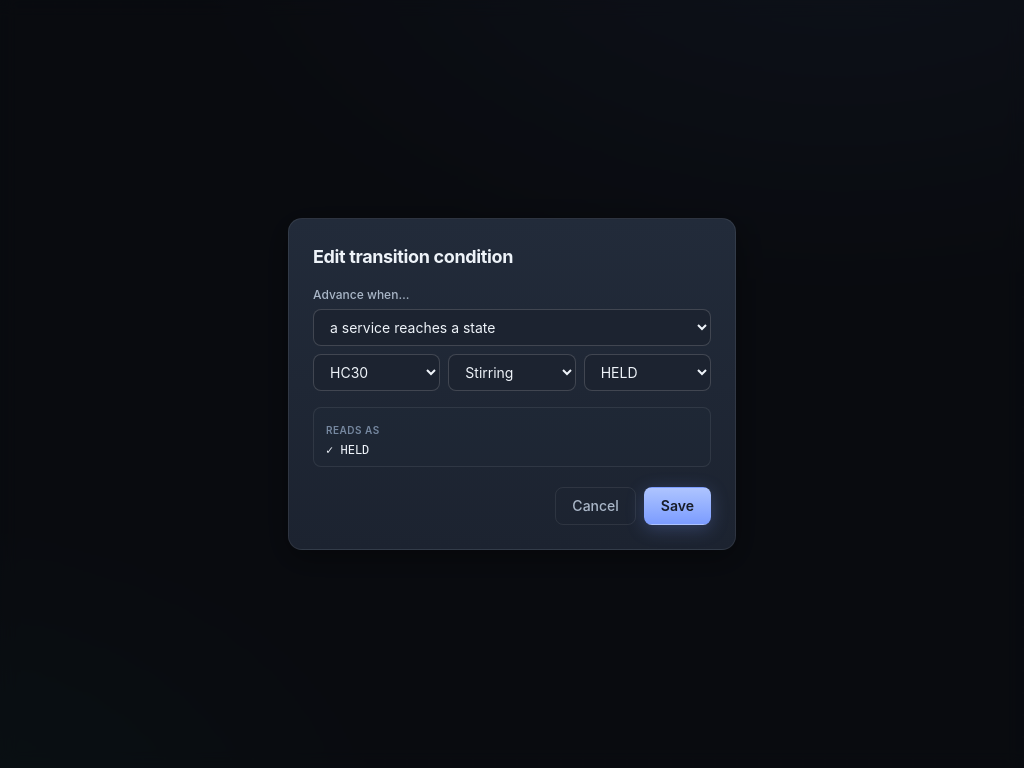
Test: authoring a compound from a leaf › adds and removes children, and refuses to remove the last one
Select "ALL of…" in the dropdown named "Condition kind" at (512, 328), box [313,309,711,346]
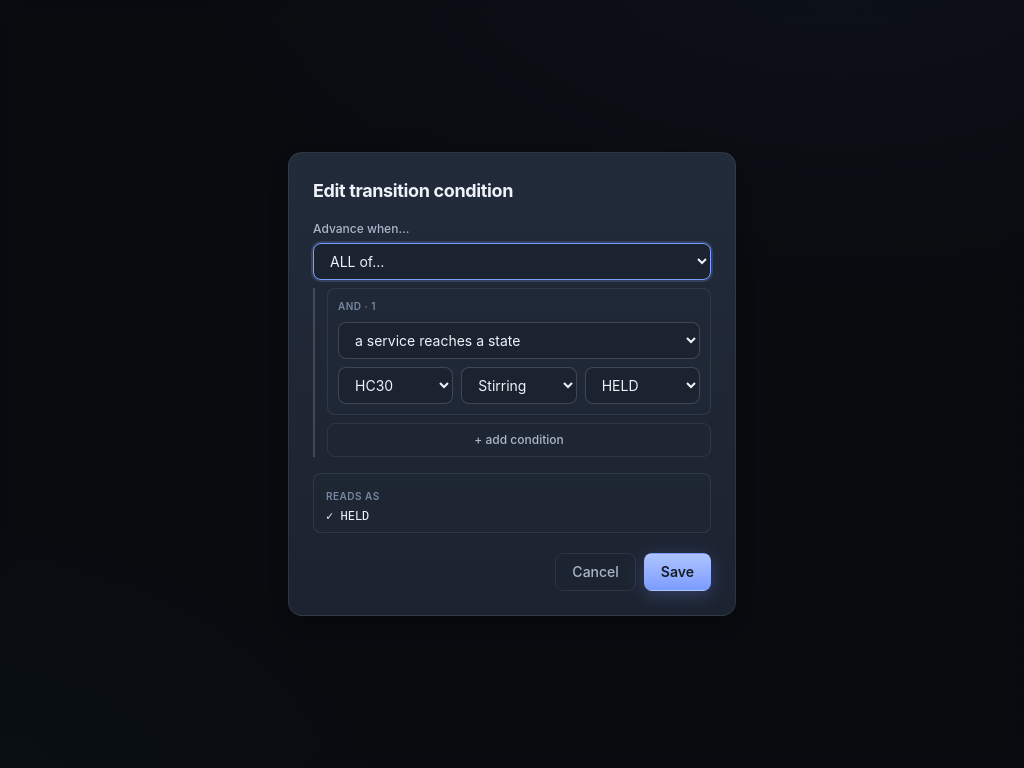
Click the button "+ add condition" at (519, 440), box [327,423,711,457]
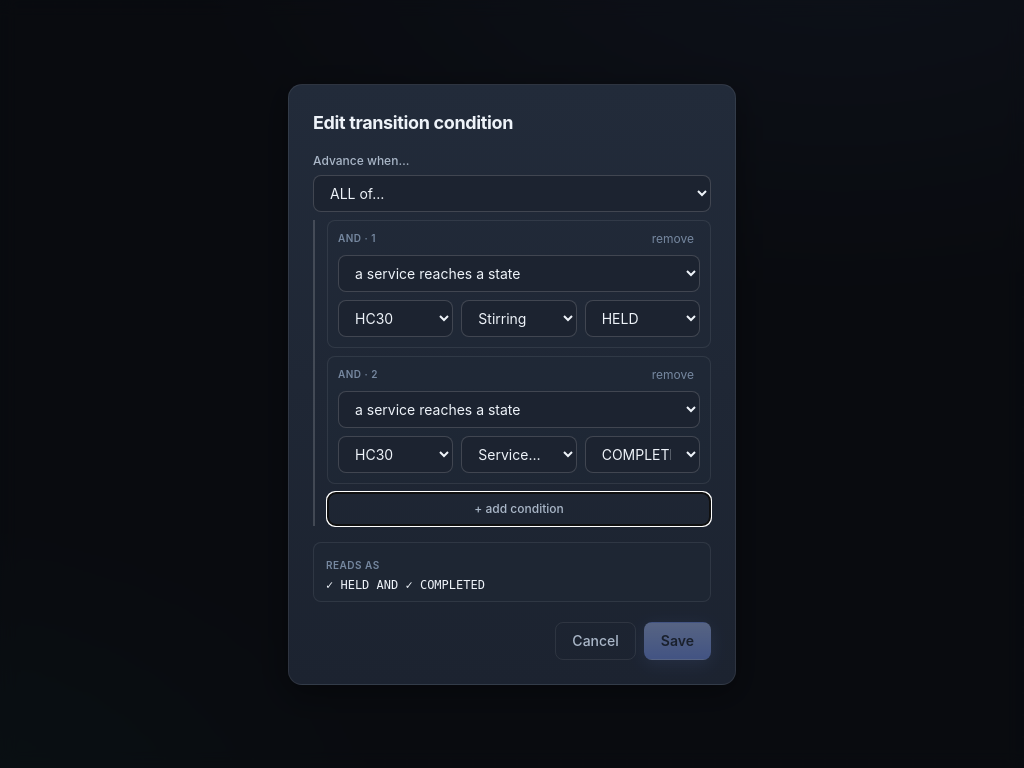
Check: the number of dropdowns named "Condition kind" is 3, box [313,174,711,212]; [338,254,700,292]; [338,390,700,428]
Check: the button with aria-label "Remove condition 1" is shown, box [646,230,700,246]
Click the button with aria-label "Remove condition 2" at (673, 374), box [646,366,700,382]
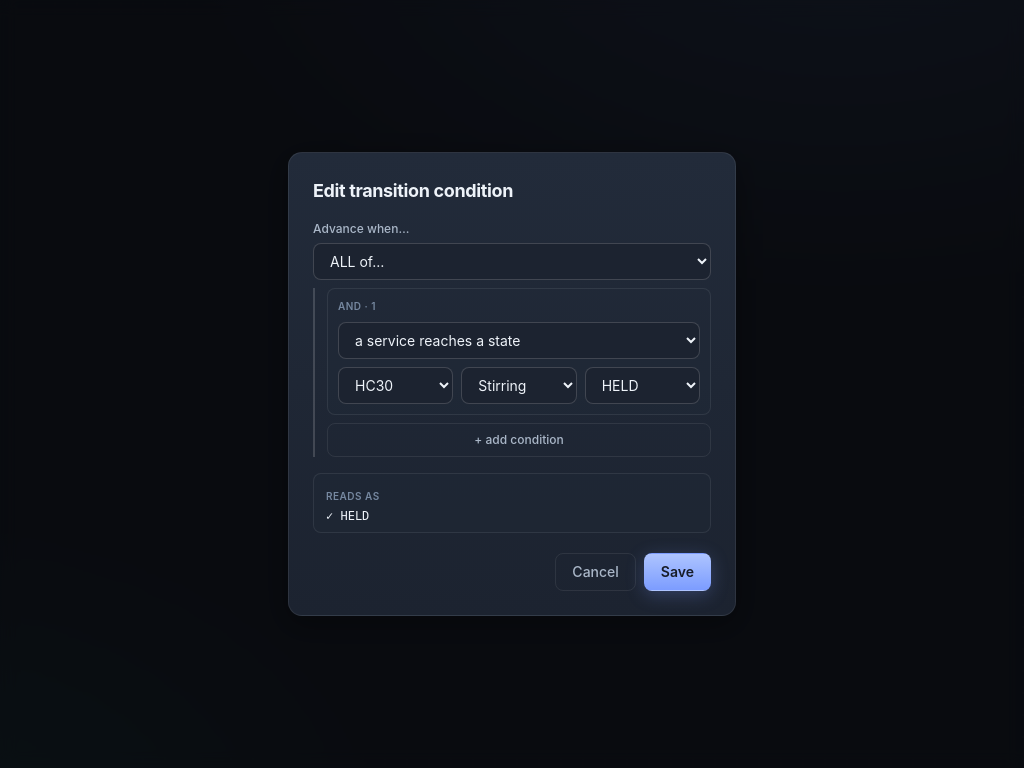
Check: the number of dropdowns named "Condition kind" is 2, box [313,243,711,280]; [338,322,700,359]
